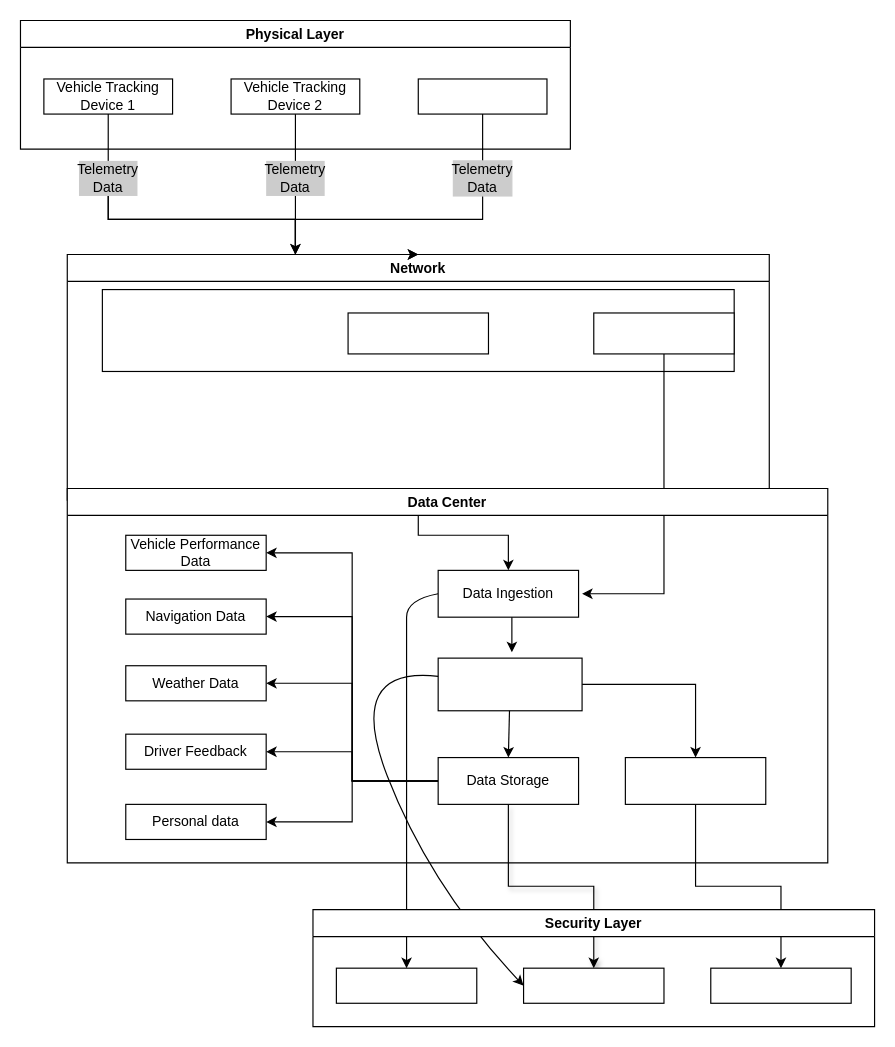
This 895x1047 diagram has some shape labels left out. Here are the shapes that lost their labels. From the top down, the centre of each, then its label:
At (482,96): "Vehicle Tracking Device 3".
At (417,333): "Satellite Communication".
At (663,333): "Mobile App".
At (509,684): "Data Processing".
At (695,780): "Analytics Engine".
At (406,985): "Firewalls".
At (593,985): "Encryption Modules".
At (780,985): "Access Control".
